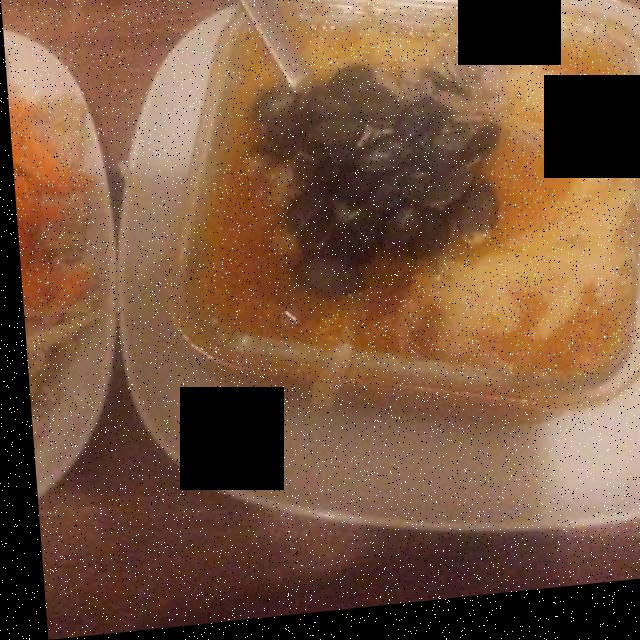hard-cheese: (419, 22, 640, 357)
pumpkin-seeds: (270, 84, 498, 311)
soup-pumpkin: (177, 4, 612, 433)
sunflower-seeds: (380, 49, 502, 153)
